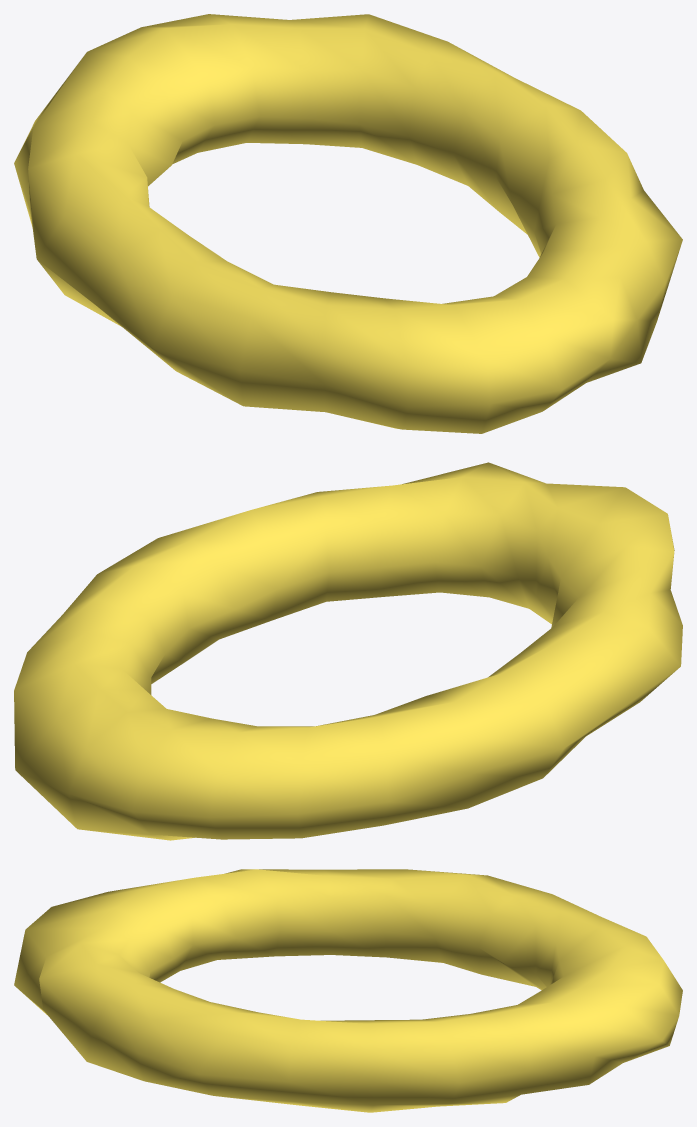
The model's file is OnionRing2.fbx.
3 renders of one model, top to bottom at view 1: azimuth 30°, elevation 25°; view 2: azimuth 150°, elevation 25°; view 3: azimuth 270°, elevation 25°, orthographic. The views are drawn at different scales.
Parts seen in each view (by area): view 1: OnionRing_Raw.001; view 2: OnionRing_Raw.001; view 3: OnionRing_Raw.001.
Boxes of the visible parts, box(x1,y1,x2,y2) form: OnionRing_Raw.001: box(14, 14, 682, 433); OnionRing_Raw.001: box(14, 462, 682, 840); OnionRing_Raw.001: box(14, 869, 682, 1112).
Bounding box in the file's own units: 9.66 × 2.04 × 14.1.
